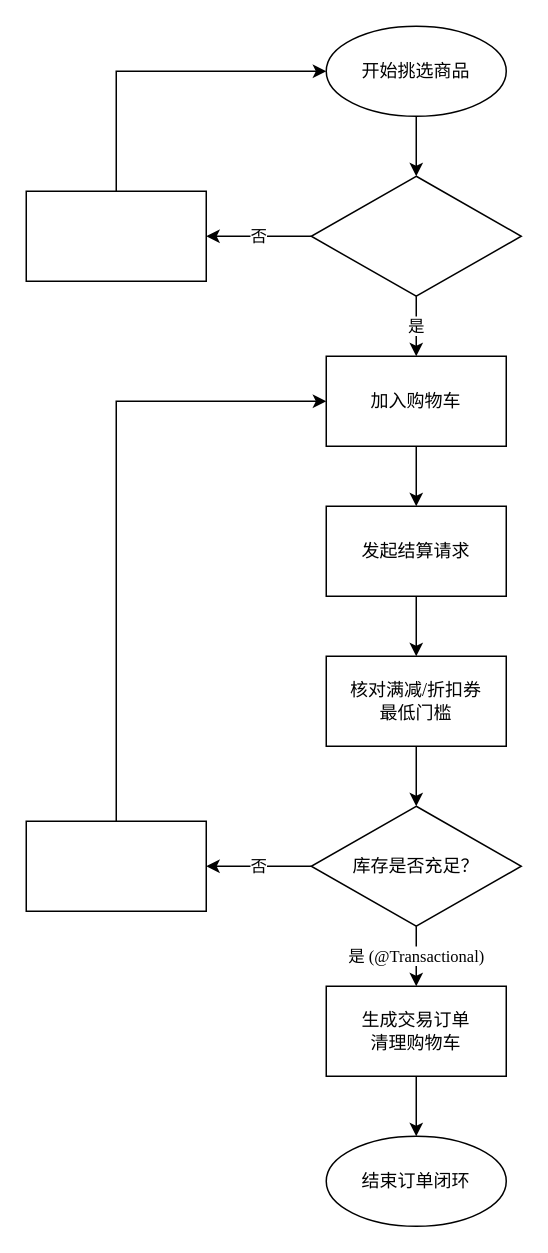
This 548x1253 diagram has some shape labels left out. The shapes that lost their labels are listed below. From the top down, each one's centre as x and y in pixels, then its label:
At (x=115, y=235): "跳转登录页面".
At (x=415, y=235): "是否已登录？".
At (x=115, y=865): "事务熔断回滚 提示防超卖拦截".
